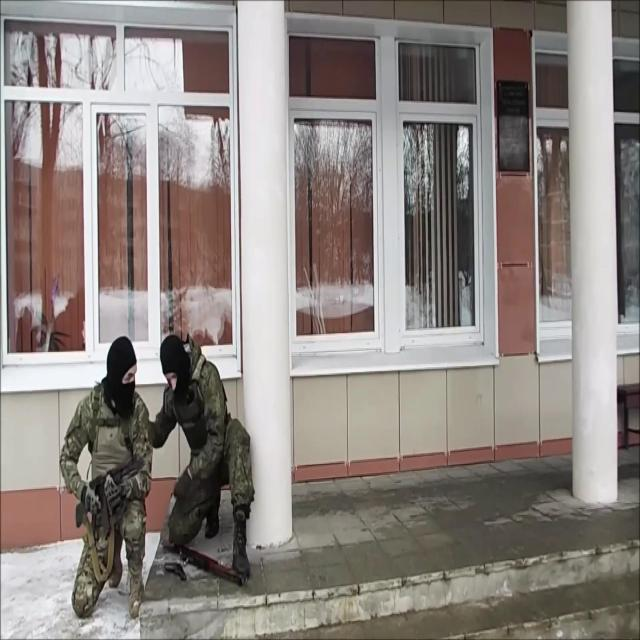pistol: (75, 456, 146, 542), (160, 532, 248, 588), (164, 558, 188, 582)
